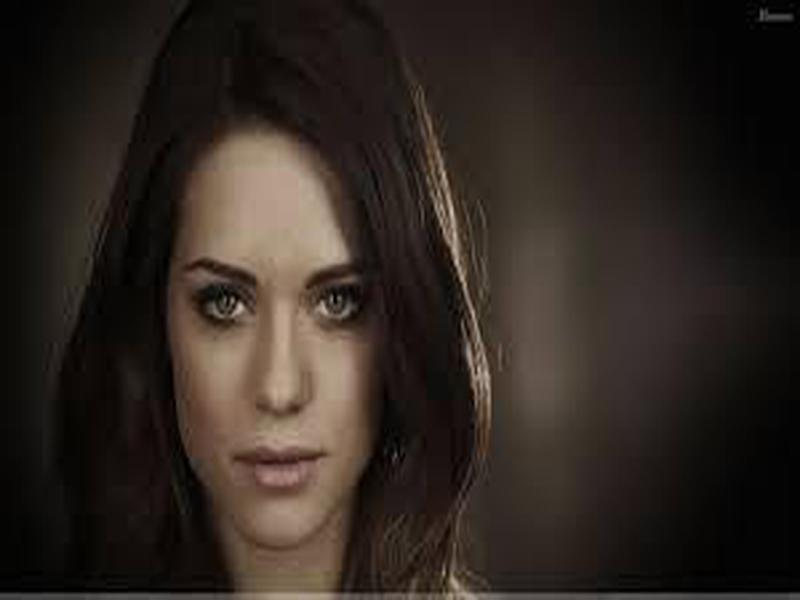without_mask: (163, 180, 372, 548)
